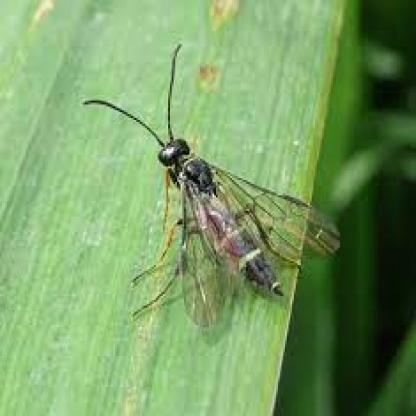sawfly: (78, 37, 342, 326)
